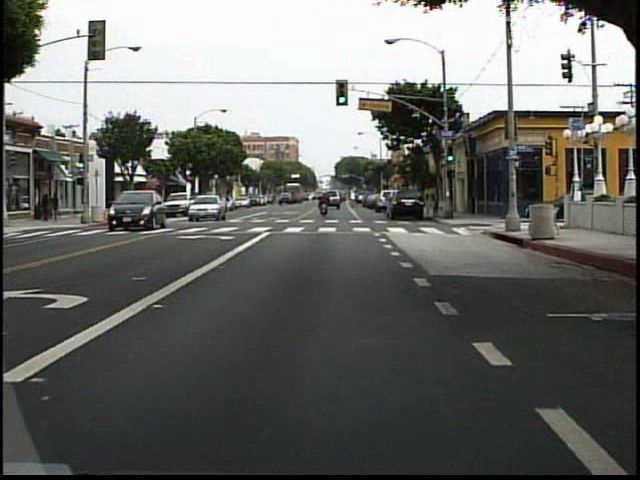person: (41, 193, 54, 223), (318, 189, 331, 218), (53, 190, 64, 221)
